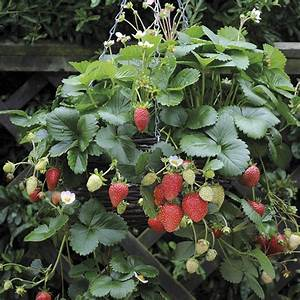Fresa: (180, 188, 214, 224), (157, 202, 186, 235), (159, 168, 184, 204), (129, 103, 151, 135), (107, 179, 130, 209), (240, 160, 261, 190)
